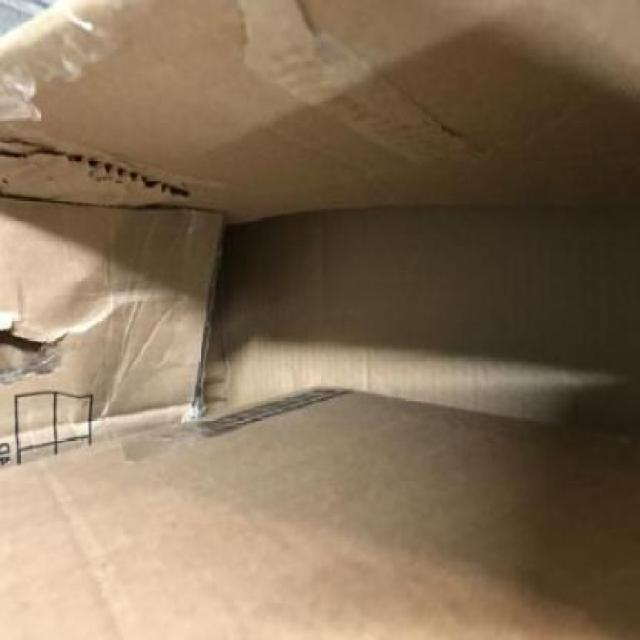box: (0, 1, 638, 640), (0, 389, 638, 638), (0, 1, 638, 229), (198, 210, 640, 413)
